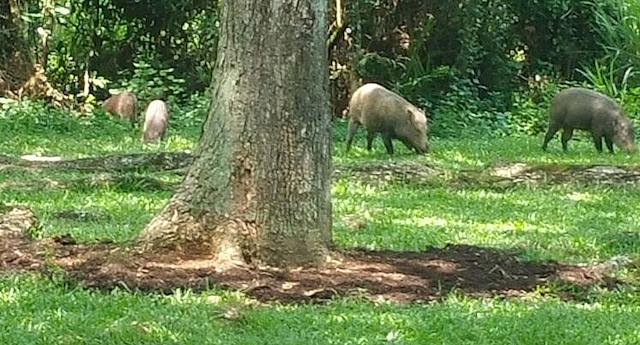boar: (542, 83, 639, 161), (341, 80, 432, 161)
